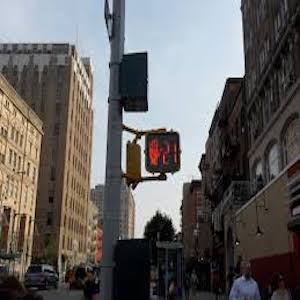red: (145, 135, 177, 171)
